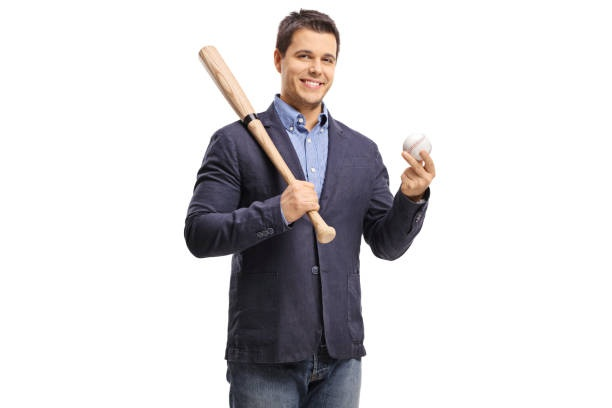bita: (200, 48, 335, 236)
